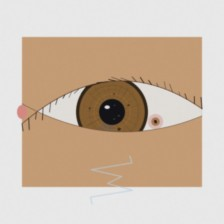foreign_body_visible: (146, 114, 165, 129)
